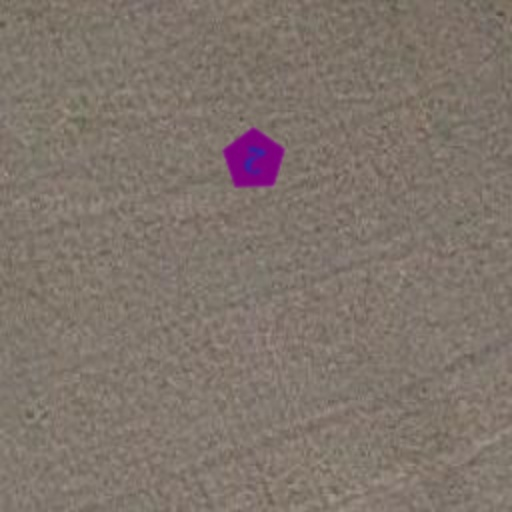pentagon: (212, 118, 296, 202)
